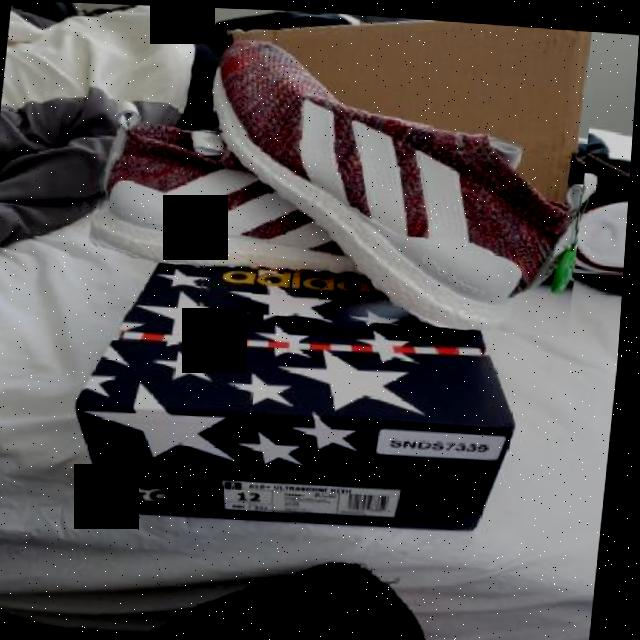shoe: (197, 32, 597, 332), (93, 121, 345, 272)
